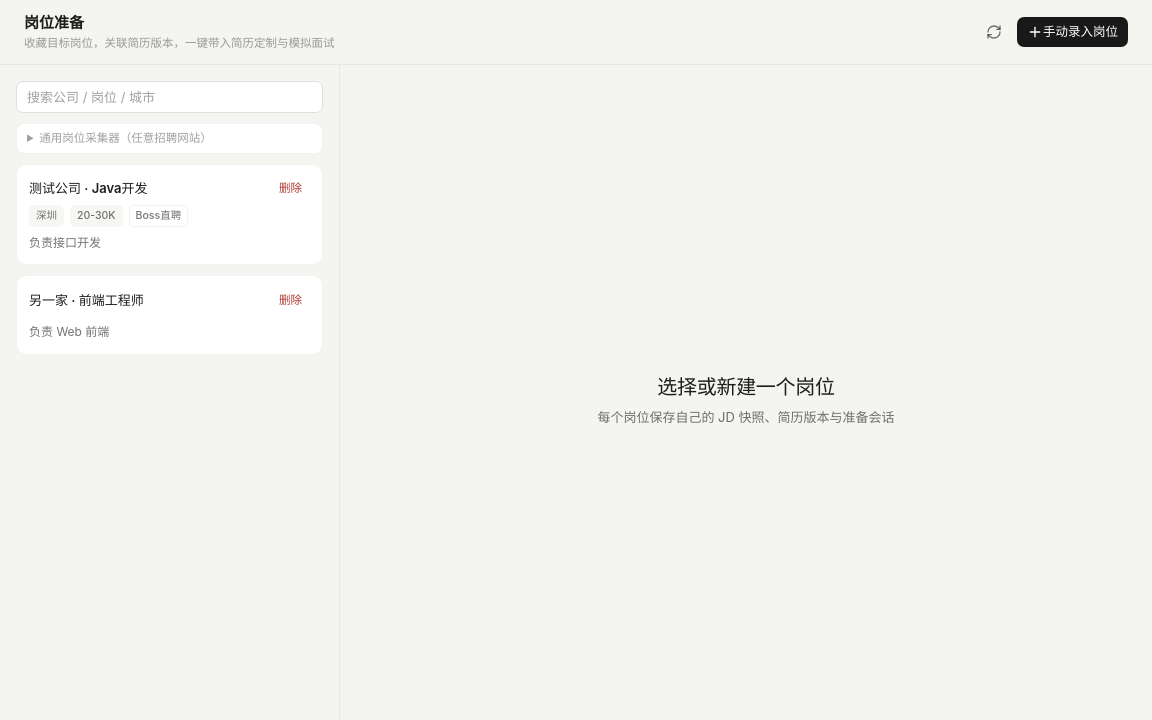
it: PreparationPage › 删除岗位需要显式确认；确认后从列表移除
The image size is (1152, 720).
Expected: the text "测试公司 · Java开发" is shown, 29,179 -> 148,199
// 卡片上的删除按钮（第一个卡片）
Click the 1st button "删除": (290, 189) 271,177 -> 310,201
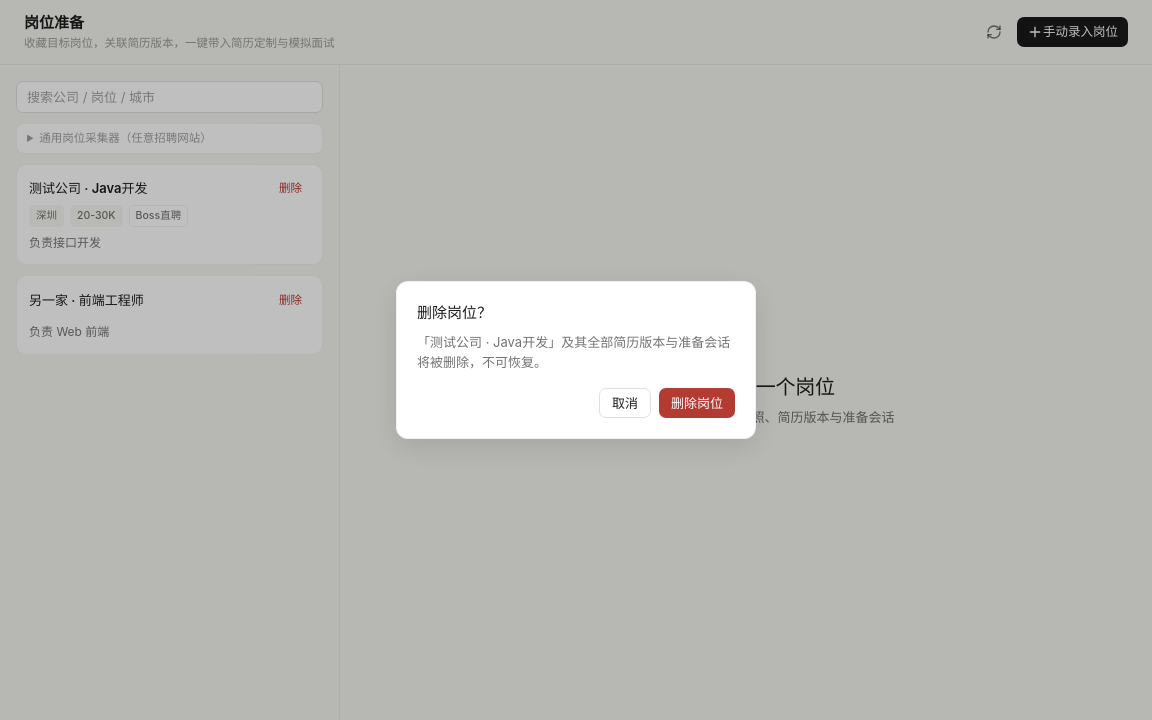
Expected: the text "「测试公司 · Java开发」及其全部简历版本与准备会话将被删除，不可恢复。" is shown, 417,332 -> 735,372
Click the button "删除岗位": (697, 403) 659,388 -> 735,418
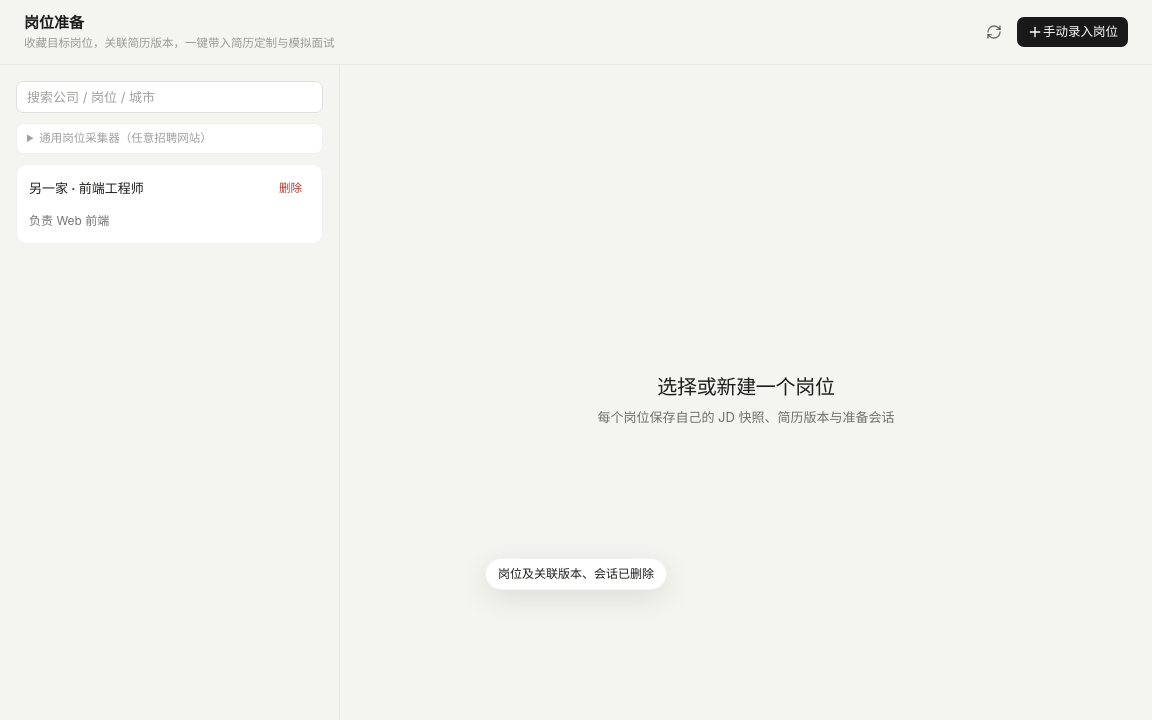
Expected: the text "另一家 · 前端工程师" is shown, 29,179 -> 144,199
Expected: the button "测试公司 · Java开发" is gone
